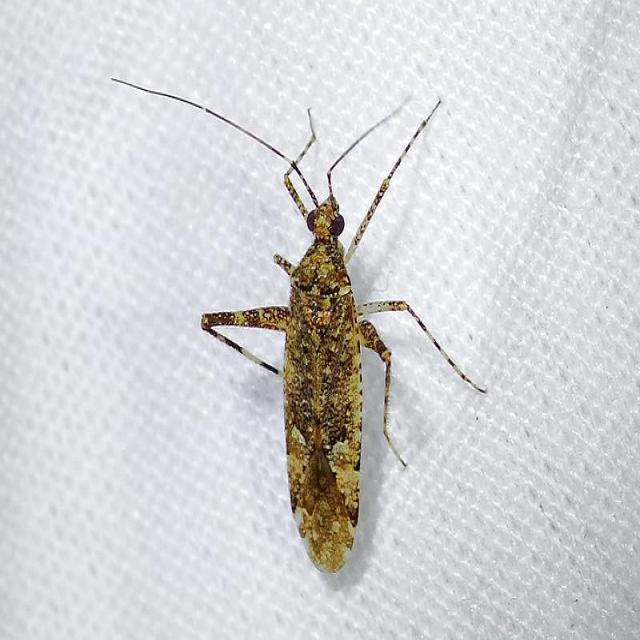Miridae-Adult-: (96, 63, 488, 581)
